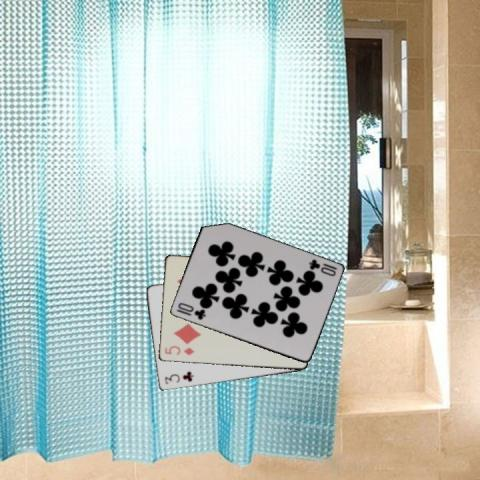10c: (173, 300, 207, 322), (306, 256, 338, 278)
3c: (161, 369, 195, 385)
5d: (162, 343, 196, 357)
